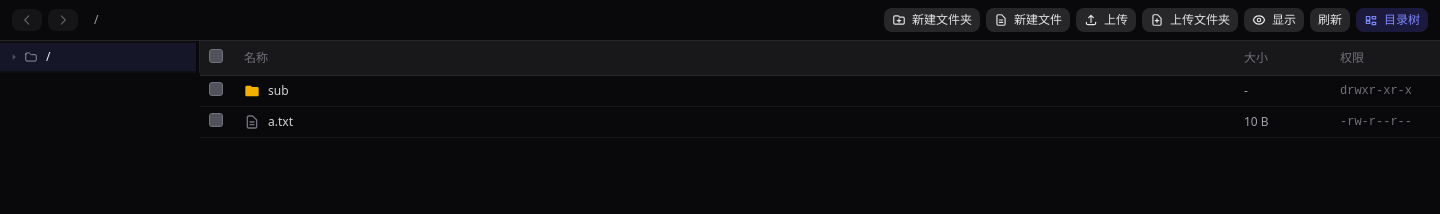
FileManagerPanel 右键下载 › save 对话框失败时给出可见错误（不再是未捕获 rejection）
Right-click the row "a.txt 10 B -rw-r--r--": (820, 122) [200, 107, 1439, 138]
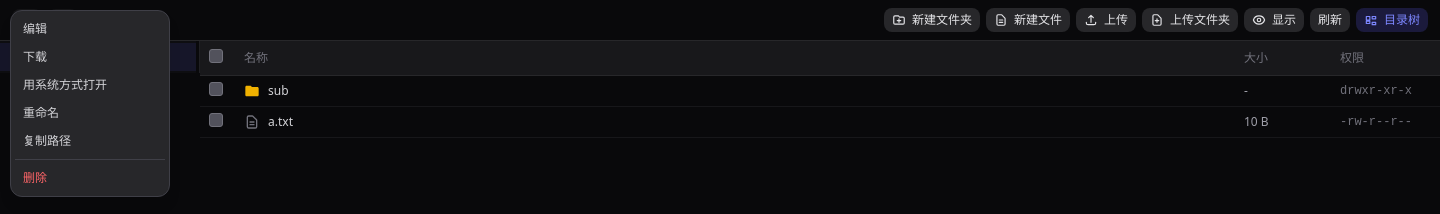
Click the button "下载": (90, 57) [15, 43, 165, 71]
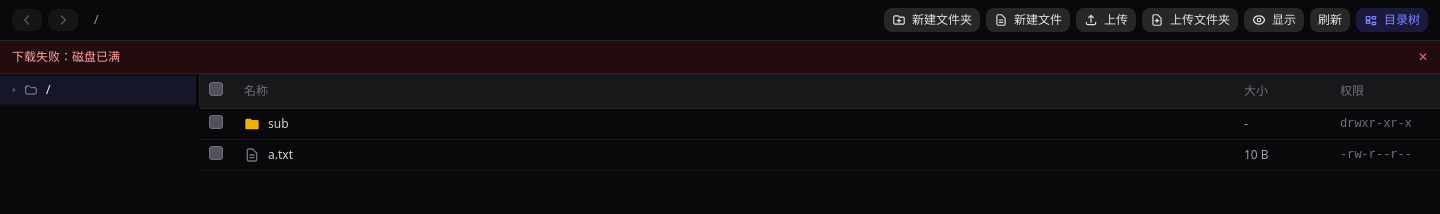
Now the text "下载失败：磁盘已满" is shown, box [12, 49, 120, 65]
